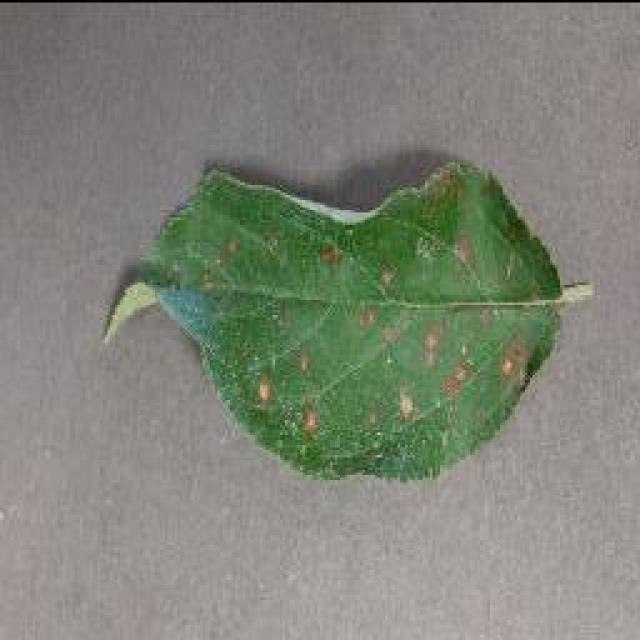apple scab disease: (102, 155, 592, 483)
